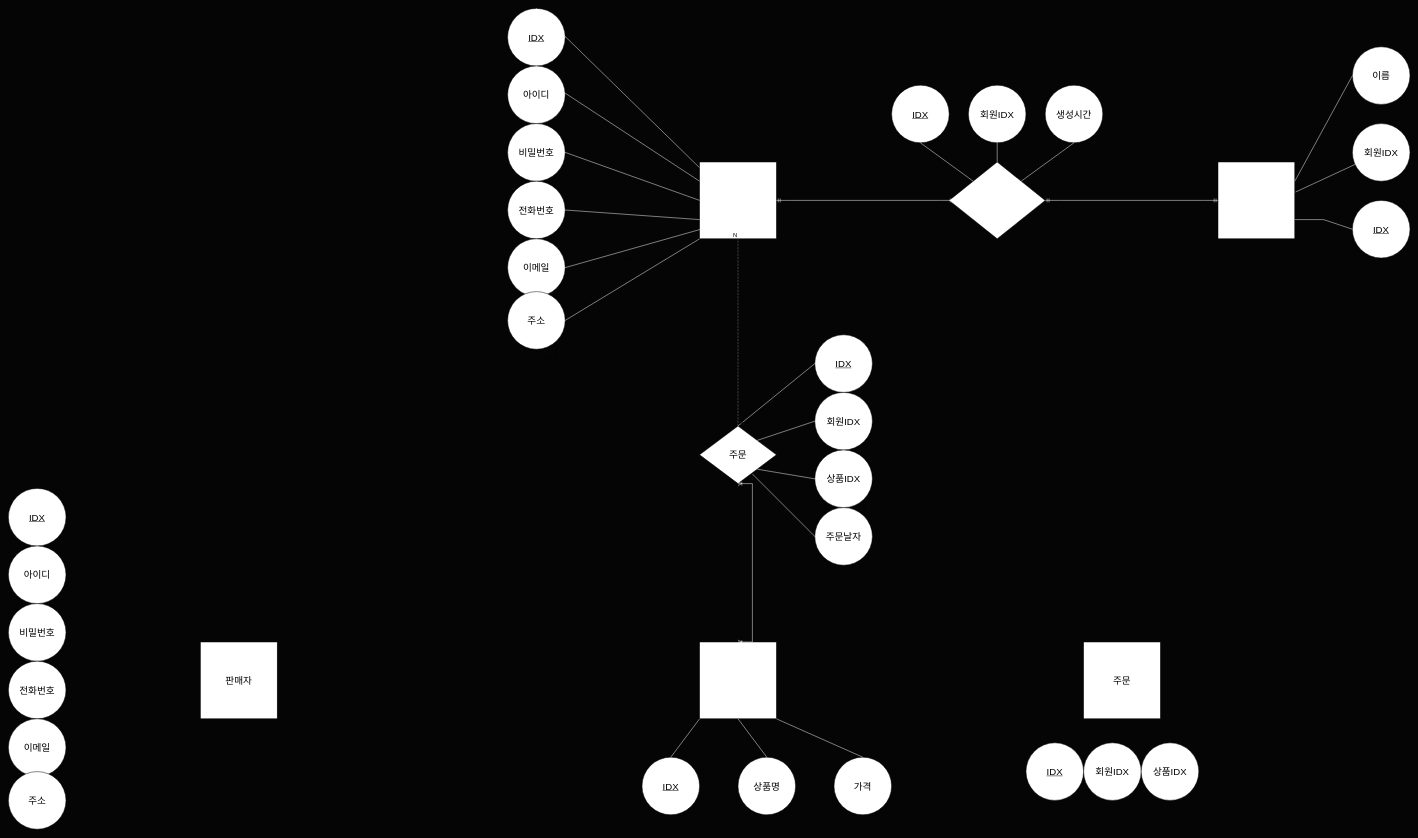
Image size: 1418x838. Some labels were removed from this diagram. Each missing label, with the centre of its shape:
"권한" belongs at (1256,200).
"상품" belongs at (737,680).
"일반회원" belongs at (737,200).
"회원가입" belongs at (997,200).
